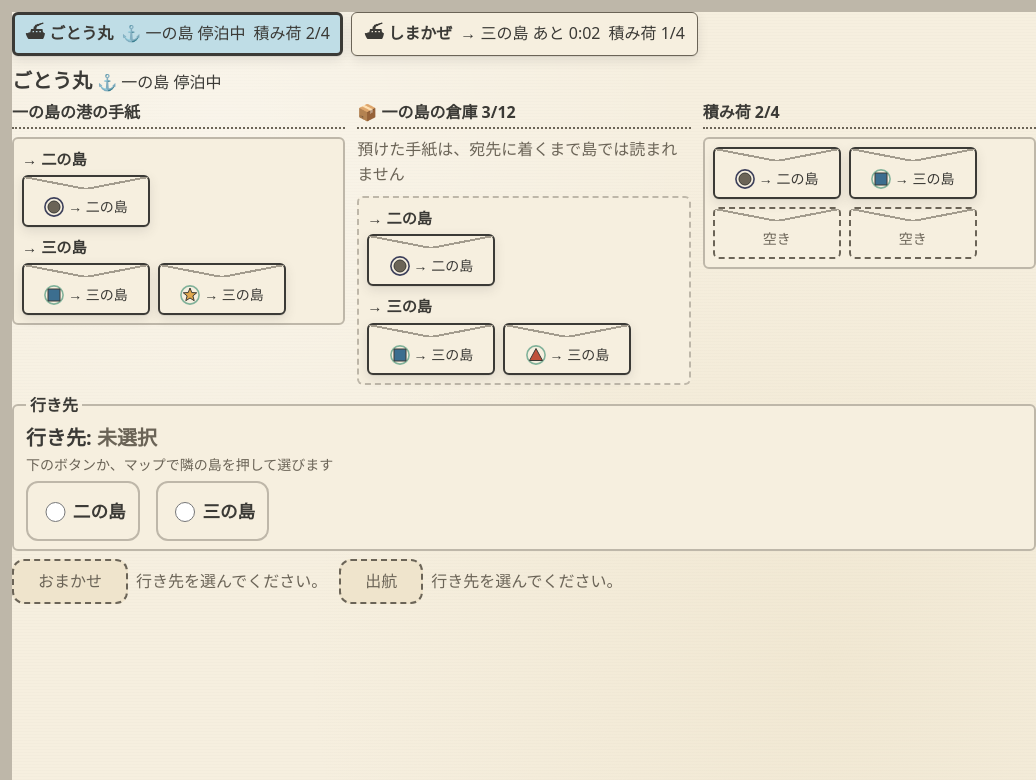
中継倉庫の区画（T-722） › FP-R4 預ける・relay_full の文
Click the 1st button "→ 三の島": x=913, y=173 [849,147,977,199]
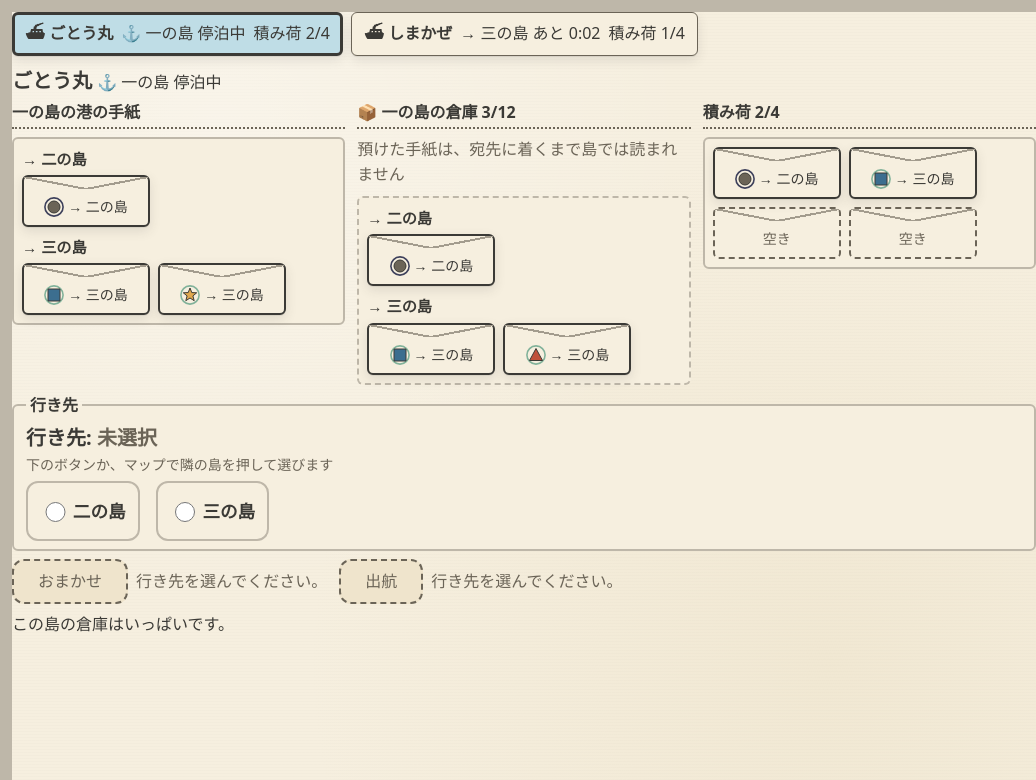
Check: the message with class "ferry-panel__status" reads "この島の倉庫はいっぱいです。", box [12,613,234,635]
